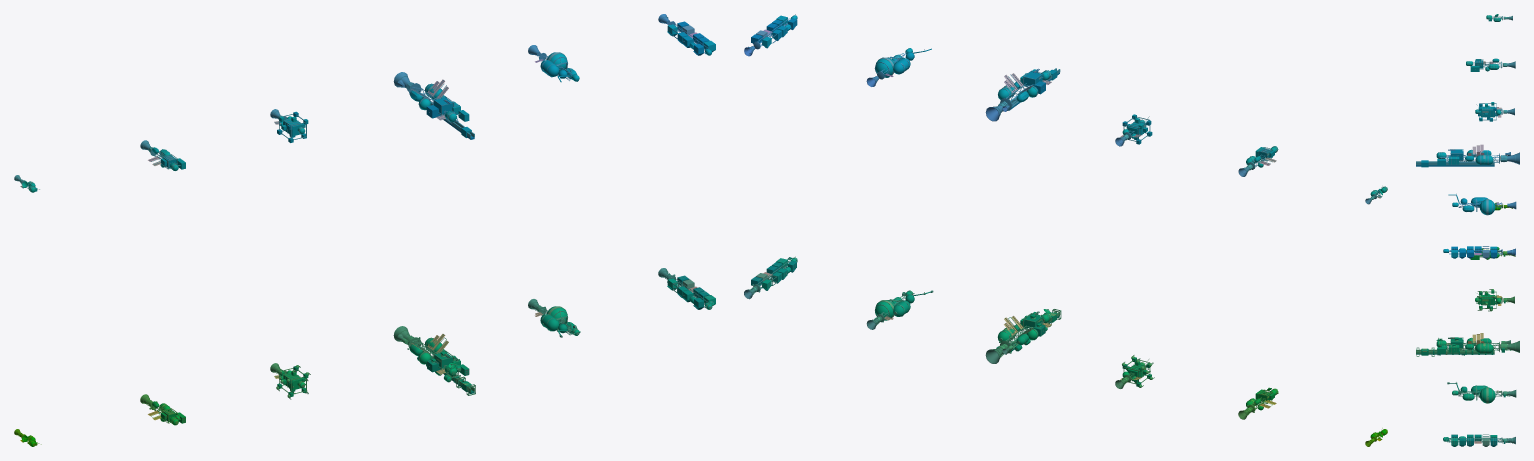
File: holds-ships.glb
3 renders of one model, left to right at view 1: azimuth 30°, elevation 25°; view 2: azimuth 150°, elevation 25°; view 3: azimuth 270°, elevation 25°, orthographic. The views are drawn at different scales.
Visible parts, largest first — view 1: holds_ships; view 2: holds_ships; view 3: holds_ships.
Part boxes in pixels (<box>): holds_ships: <box>14,14,715,446</box>; holds_ships: <box>744,14,1387,446</box>; holds_ships: <box>1416,14,1519,446</box>.
Size of the model in its own units: 8.19 by 3.34 by 1.5.
